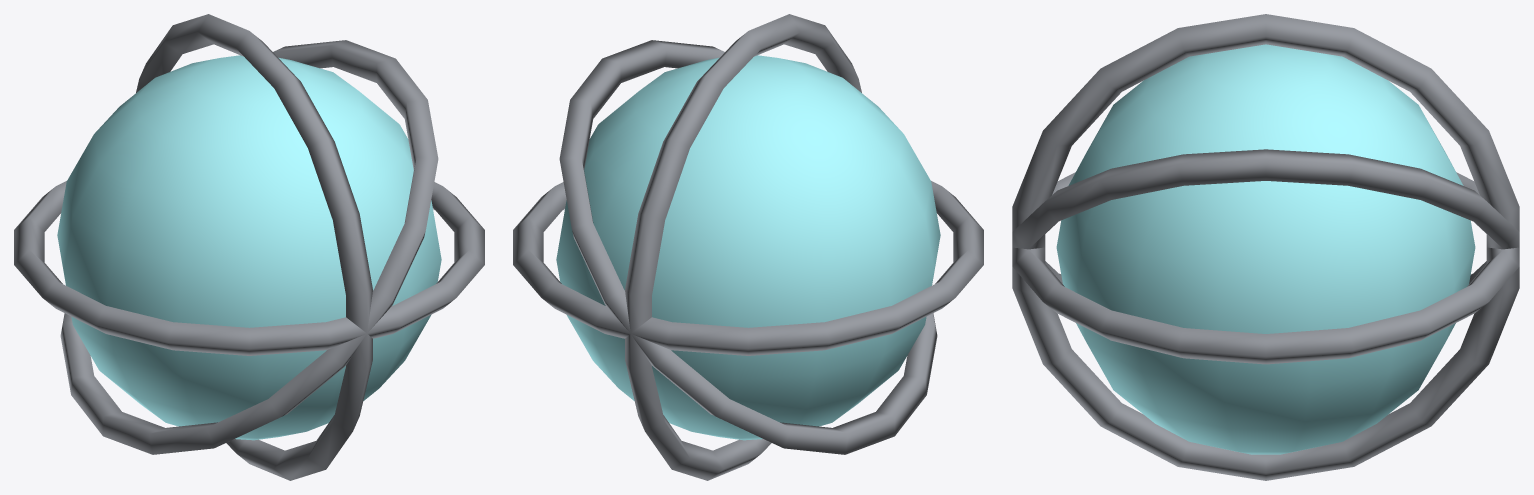
File: PlasmaBomb.fbx
The picture shows the model from 3 angles, left to right: view 1: azimuth 30°, elevation 25°; view 2: azimuth 150°, elevation 25°; view 3: azimuth 270°, elevation 25°; orthographic projection. The views are drawn at different scales.
Parts seen in each view (by area): view 1: plasma_bomb; view 2: plasma_bomb; view 3: plasma_bomb.
Part boxes in pixels (box(x1,y1,x2,y2)): plasma_bomb: box(14, 14, 484, 480); plasma_bomb: box(513, 14, 983, 480); plasma_bomb: box(1012, 14, 1519, 480).
Bounding box in the file's own units: 0.4428 × 0.4428 × 0.4361.
